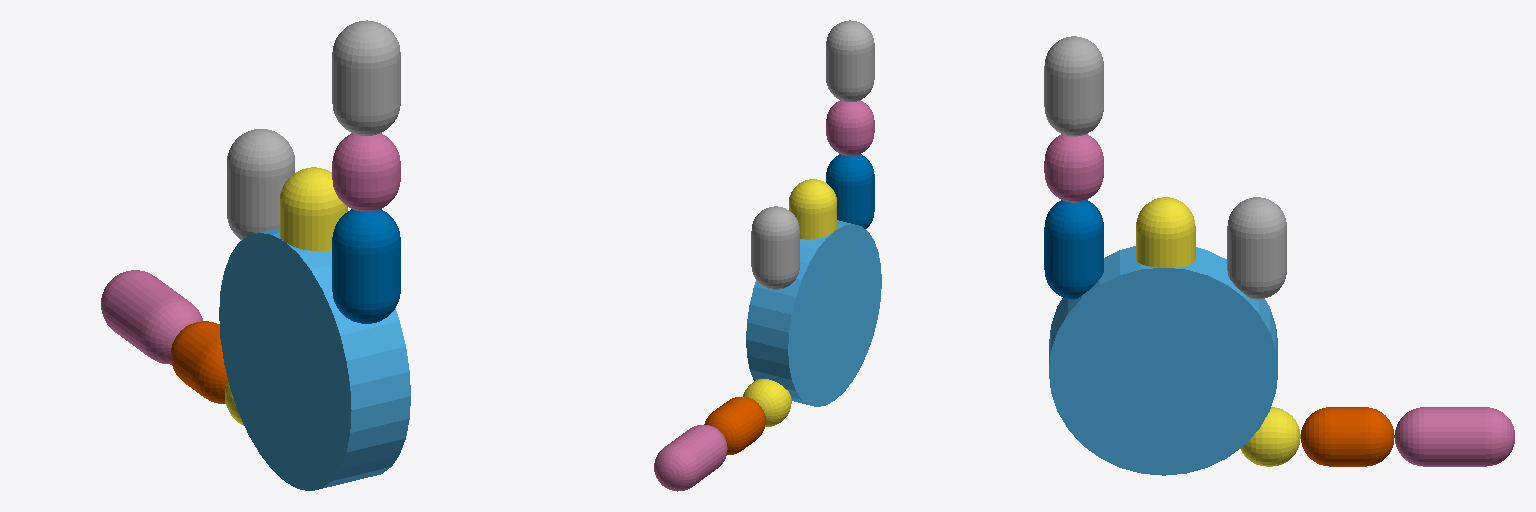
The robot description file, URDF, robot "DexterousHand":
<?xml version="1.0"?>
<robot name="DexterousHand">


    <link name="world"/>
    <joint name="world_to_palm" type="fixed">
        <parent link="world"/>
        <child link="palm"/>
        <origin xyz="0 0 0" rpy="0 0 0"/>
    </joint>
    <link name="palm">
        <inertial>
            <origin xyz="0 0 0.057" rpy="0 0 0"/>
            <mass value="0.30212892864"/>
            <inertia ixx="0.00049080844457568" ixy="0.0" ixz="0.0" iyy="0.00026746366246427523" iyz="0.0" izz="0.00026746366246427523"/>
        </inertial>
        <visual>
            <origin xyz="0 0 0.057" rpy="1.5708 0 1.5708"/>
            <geometry>
                <cylinder radius="0.057" length="0.0296"/>
            </geometry>
            <material name="default"/>
        </visual>
        <collision>
            <origin xyz="0 0 0.057" rpy="1.5708 0 1.5708"/>
            <geometry>
                <cylinder radius="0.057" length="0.0296"/>
            </geometry>
        </collision>
    </link>

    
    <joint name="thumb_joint1" type="revolute">
        <parent link="palm"/>
        <child link="thumb_base"/>
        <origin xyz="0.0029 0.0368 0.0157" rpy="-1.5708 -1.5708 0.0"/>
        <axis xyz="-1 0 0"/>
        <limit lower="-0.349" upper="2.094" effort="1.0" velocity="1.0"/>
    </joint>

    <link name="thumb_base"></link>

    <joint name="thumb_joint2" type="revolute">
        <parent link="thumb_base"/>
        <child link="thumb_proximal"/>
        <origin xyz="0.0 0.0 0.0" rpy="0.0 0.0 0.0"/>
        <axis xyz="0 0 1"/>
        <limit lower="-0.47" upper="2.443" effort="1.0" velocity="1.0"/>
    </joint>

    <link name="thumb_proximal">
        <inertial>
            <origin xyz="0 0 0.01565" rpy="0 0 0"/>
            <mass value="0.021538658803200002"/>
            <inertia ixx="2.9378910096388167e-06" ixy="0.0" ixz="0.0" 
            iyy="2.9378910096388167e-06" iyz="0.0" izz="2.358913912126464e-06"/>
        </inertial>
        <visual>
            <origin xyz="0 0 0.01565" rpy="0 0 0"/>
            <geometry>
                <cylinder radius="0.0148" length="0.0017000000000000001"/>
            </geometry>
            <material name="default"/>
        </visual>
        <visual>
            <origin xyz="0 0 0.0148" rpy="0 0 0"/>
            <geometry>
                <sphere radius="0.0148"/>
            </geometry>
            <material name="default"/>
        </visual>
        <visual>
            <origin xyz="0 0 0.0165" rpy="0 0 0"/>
            <geometry>
                <sphere radius="0.0148"/>
            </geometry>
            <material name="default"/>
        </visual>
        <collision>
            <origin xyz="0 0 0.01565" rpy="0 0 0"/>
            <geometry>
                <cylinder radius="0.0148" length="0.0017000000000000001"/>
            </geometry>
        </collision>
        <collision>
            <origin xyz="0 0 0.0148" rpy="0 0 0"/>
            <geometry>
                <sphere radius="0.0148"/>
            </geometry>
        </collision>
        <collision>
            <origin xyz="0 0 0.0165" rpy="0 0 0"/>
            <geometry>
                <sphere radius="0.0148"/>
            </geometry>
        </collision>
    </link>

    <joint name="thumb_joint3" type="revolute">
        <parent link="thumb_proximal"/>
        <child link="thumb_knuckle"/>
        <origin xyz="0.0 0.0 0.0313" rpy="0.0 0.0 0.0"/>
        <axis xyz="1 0 0"/>
        <limit lower="0.0" upper="0.0" effort="1.0" velocity="1.0"/>
    </joint>

    <link name="thumb_knuckle"></link>

    <joint name="thumb_joint4" type="revolute">
        <parent link="thumb_knuckle"/>
        <child link="thumb_middle"/>
        <origin xyz="0 0 0" rpy="0 0 0"/> 
        <axis xyz="0 1 0"/>
        <limit lower="-1.2" upper="1.9" effort="1.0" velocity="1.0"/>
    </joint>

    <link name="thumb_middle">
        <inertial>
            <origin xyz="0 0 0.0233" rpy="0 0 0"/>
            <mass value="0.032067140582400004"/>
            <inertia ixx="7.5589732685519385e-06" ixy="0.0" ixz="0.0" 
            iyy="7.5589732685519385e-06" iyz="0.0" izz="3.5119932365844485e-06"/>
        </inertial>
        <visual>
            <origin xyz="0 0 0.0233" rpy="0 0 0"/>
            <geometry>
                <cylinder radius="0.0148" length="0.017"/>
            </geometry>
            <material name="default"/>
        </visual>
        <visual>
            <origin xyz="0 0 0.0148" rpy="0 0 0"/>
            <geometry>
                <sphere radius="0.0148"/>
            </geometry>
            <material name="default"/>
        </visual>
        <visual>
            <origin xyz="0 0 0.0318" rpy="0 0 0"/>
            <geometry>
                <sphere radius="0.0148"/>
            </geometry>
            <material name="default"/>
        </visual>
        <collision>
            <origin xyz="0 0 0.0233" rpy="0 0 0"/>
            <geometry>
                <cylinder radius="0.0148" length="0.017"/>
            </geometry>
        </collision>
        <collision>
            <origin xyz="0 0 0.0148" rpy="0 0 0"/>
            <geometry>
                <sphere radius="0.0148"/>
            </geometry>
        </collision>
        <collision>
            <origin xyz="0 0 0.0318" rpy="0 0 0"/>
            <geometry>
                <sphere radius="0.0148"/>
            </geometry>
        </collision>
    </link>

    <joint name="thumb_joint5" type="revolute">
        <parent link="thumb_middle"/>
        <child link="thumb_distal"/>
        <origin xyz="0 0 0.0466" rpy="0 0 0"/> 
        <axis xyz="0 1 0"/>
        <limit lower="-1.34" upper="1.88" effort="1.0" velocity="1.0"/>
    </joint>

    <link name="thumb_distal">
        <inertial>
            <origin xyz="0 0 0.03" rpy="0 0 0"/>
            <mass value="0.04128816384"/>
            <inertia ixx="1.46473890038784e-05" ixy="0.0" ixz="0.0" 
            iyy="1.46473890038784e-05" iyz="0.0" izz="4.521879703756801e-06"/>
        </inertial>
        <visual>
            <origin xyz="0 0 0.03" rpy="0 0 0"/>
            <geometry>
                <cylinder radius="0.0148" length="0.030399999999999996"/>
            </geometry>
            <material name="default"/>
        </visual>
        <visual>
            <origin xyz="0 0 0.0148" rpy="0 0 0"/>
            <geometry>
                <sphere radius="0.0148"/>
            </geometry>
            <material name="default"/>
        </visual>
        <visual>
            <origin xyz="0 0 0.0452" rpy="0 0 0"/>
            <geometry>
                <sphere radius="0.0148"/>
            </geometry>
            <material name="default"/>
        </visual>
        <collision>
            <origin xyz="0 0 0.03" rpy="0 0 0"/>
            <geometry>
                <cylinder radius="0.0148" length="0.030399999999999996"/>
            </geometry>
        </collision>
        <collision>
            <origin xyz="0 0 0.0148" rpy="0 0 0"/>
            <geometry>
                <sphere radius="0.0148"/>
            </geometry>
        </collision>
        <collision>
            <origin xyz="0 0 0.0452" rpy="0 0 0"/>
            <geometry>
                <sphere radius="0.0148"/>
            </geometry>
        </collision>
    </link>

    
    <joint name="index_joint1" type="revolute">
        <parent link="palm"/>
        <child link="index_proximal"/>
        <origin xyz="0.0 0.0465 0.091" rpy="0.0 0.0 0.0"/>
        <axis xyz="0 1 0"/>
        <limit lower="-0.314" upper="2.23" effort="1.0" velocity="1.0"/>
    </joint>

    <link name="index_proximal">
        <inertial>
            <origin xyz="0 0 0.02655" rpy="0 0 0"/>
            <mass value="0.036540024998400006"/>
            <inertia ixx="1.058665009272394e-05" ixy="0.0" ixz="0.0" 
            iyy="1.058665009272394e-05" iyz="0.0" izz="4.001863537824769e-06"/>
        </inertial>
        <visual>
            <origin xyz="0 0 0.02655" rpy="0 0 0"/>
            <geometry>
                <cylinder radius="0.0148" length="0.0235"/>
            </geometry>
            <material name="default"/>
        </visual>
        <visual>
            <origin xyz="0 0 0.0148" rpy="0 0 0"/>
            <geometry>
                <sphere radius="0.0148"/>
            </geometry>
            <material name="default"/>
        </visual>
        <visual>
            <origin xyz="0 0 0.0383" rpy="0 0 0"/>
            <geometry>
                <sphere radius="0.0148"/>
            </geometry>
            <material name="default"/>
        </visual>
        <collision>
            <origin xyz="0 0 0.02655" rpy="0 0 0"/>
            <geometry>
                <cylinder radius="0.0148" length="0.0235"/>
            </geometry>
        </collision>
        <collision>
            <origin xyz="0 0 0.0148" rpy="0 0 0"/>
            <geometry>
                <sphere radius="0.0148"/>
            </geometry>
        </collision>
        <collision>
            <origin xyz="0 0 0.0383" rpy="0 0 0"/>
            <geometry>
                <sphere radius="0.0148"/>
            </geometry>
        </collision>
    </link>

    <joint name="index_joint2" type="revolute">
        <parent link="index_proximal"/>
        <child link="index_dummy"/>
        <origin xyz="0.0 0.0 0.038" rpy="0.0 0.0 0.0"/>
        <axis xyz="0 1 0"/>
        <limit lower="0.0" upper="0.0" effort="1.0" velocity="1.0"/>
    </joint>

    <link name="index_dummy"></link>

    <joint name="index_joint3" type="revolute">
        <parent link="index_dummy"/>
        <child link="index_middle"/>
        <origin xyz="0 0 0.015100000000000002" rpy="0 0 0"/>
        <axis xyz="0 1 0"/>
        <limit lower="0.0" upper="0.0" effort="1.0" velocity="1.0"/>
    </joint>

    <link name="index_middle">
    </link>

    <joint name="index_joint4" type="revolute">
        <parent link="index_middle"/>
        <child link="index_distal"/>
        <origin xyz="0 0 0" rpy="0 0 0"/> 
        <axis xyz="0 1 0"/>
        <limit lower="0.0" upper="0.0" effort="1.0" velocity="1.0"/>
    </joint>

    <link name="index_distal">
    </link>

    
    <joint name="middle_joint1" type="revolute">
        <parent link="palm"/>
        <child link="middle_proximal"/>
        <origin xyz="0.0 0.0011 0.091" rpy="0.0 0.0 0.0"/>
        <axis xyz="0 1 0"/>
        <limit lower="-0.314" upper="2.23" effort="1.0" velocity="1.0"/>
    </joint>

    <link name="middle_proximal">
        <inertial>
            <origin xyz="0 0 0.02655" rpy="0 0 0"/>
            <mass value="0.036540024998400006"/>
            <inertia ixx="1.058665009272394e-05" ixy="0.0" ixz="0.0" 
            iyy="1.058665009272394e-05" iyz="0.0" izz="4.001863537824769e-06"/>
        </inertial>
        <visual>
            <origin xyz="0 0 0.02655" rpy="0 0 0"/>
            <geometry>
                <cylinder radius="0.0148" length="0.0235"/>
            </geometry>
            <material name="default"/>
        </visual>
        <visual>
            <origin xyz="0 0 0.0148" rpy="0 0 0"/>
            <geometry>
                <sphere radius="0.0148"/>
            </geometry>
            <material name="default"/>
        </visual>
        <visual>
            <origin xyz="0 0 0.0383" rpy="0 0 0"/>
            <geometry>
                <sphere radius="0.0148"/>
            </geometry>
            <material name="default"/>
        </visual>
        <collision>
            <origin xyz="0 0 0.02655" rpy="0 0 0"/>
            <geometry>
                <cylinder radius="0.0148" length="0.0235"/>
            </geometry>
        </collision>
        <collision>
            <origin xyz="0 0 0.0148" rpy="0 0 0"/>
            <geometry>
                <sphere radius="0.0148"/>
            </geometry>
        </collision>
        <collision>
            <origin xyz="0 0 0.0383" rpy="0 0 0"/>
            <geometry>
                <sphere radius="0.0148"/>
            </geometry>
        </collision>
    </link>

    <joint name="middle_joint2" type="revolute">
        <parent link="middle_proximal"/>
        <child link="middle_dummy"/>
        <origin xyz="0.0 0.0 0.038" rpy="0.0 0.0 0.0"/>
        <axis xyz="0 1 0"/>
        <limit lower="0.0" upper="0.0" effort="1.0" velocity="1.0"/>
    </joint>

    <link name="middle_dummy"></link>

    <joint name="middle_joint3" type="revolute">
        <parent link="middle_dummy"/>
        <child link="middle_middle"/>
        <origin xyz="0 0 0.015100000000000002" rpy="0 0 0"/>
        <axis xyz="0 1 0"/>
        <limit lower="0.0" upper="0.0" effort="1.0" velocity="1.0"/>
    </joint>

    <link name="middle_middle">
    </link>

    <joint name="middle_joint4" type="revolute">
        <parent link="middle_middle"/>
        <child link="middle_distal"/>
        <origin xyz="0 0 0" rpy="0 0 0"/> 
        <axis xyz="0 1 0"/>
        <limit lower="0.0" upper="0.0" effort="1.0" velocity="1.0"/>
    </joint>

    <link name="middle_distal">
    </link>

    
    <joint name="ring_joint1" type="revolute">
        <parent link="palm"/>
        <child link="ring_proximal"/>
        <origin xyz="0.0 0.0 0.0" rpy="0.0 0.0 0.0"/>
        <axis xyz="1 0 0"/>
        <limit lower="0.0" upper="0.0" effort="1.0" velocity="1.0"/>
    </joint>

    <link name="ring_proximal">
    </link>

    <joint name="ring_joint2" type="revolute">
        <parent link="ring_proximal"/>
        <child link="ring_dummy"/>
        <origin xyz="0.0 0.0 0.0" rpy="0.0 0.0 0.0"/>
        <axis xyz="0 1 0"/>
        <limit lower="0.0" upper="0.0" effort="1.0" velocity="1.0"/>
    </joint>

    <link name="ring_dummy"></link>

    <joint name="ring_joint3" type="revolute">
        <parent link="ring_dummy"/>
        <child link="ring_middle"/>
        <origin xyz="0 0 0" rpy="0 0 0"/>
        <axis xyz="0 1 0"/>
        <limit lower="0.0" upper="0.0" effort="1.0" velocity="1.0"/>
    </joint>

    <link name="ring_middle">
    </link>

    <joint name="ring_joint4" type="revolute">
        <parent link="ring_middle"/>
        <child link="ring_distal"/>
        <origin xyz="0 0 0" rpy="0 0 0"/> 
        <axis xyz="0 1 0"/>
        <limit lower="0.0" upper="0.0" effort="1.0" velocity="1.0"/>
    </joint>

    <link name="ring_distal">
    </link>

    
    <joint name="little_joint0" type="revolute">
        <parent link="palm"/>
        <child link="little_base"/>
        <origin xyz="0.0 0.0 0.0" rpy="0.0 0.0 0.0"/>
        <axis xyz="0 1 0"/>
        <limit lower="0.0" upper="0.0" effort="1.0" velocity="1.0"/>
    </joint>

    <link name="little_base"></link>

    <joint name="little_joint1" type="revolute">
        <parent link="little_base"/>
        <child link="little_proximal"/>
        <origin xyz="0.0 -0.0443 0.091" rpy="-0.0 -0.0 -0.0"/>
        <axis xyz="0 1 0"/>
        <limit lower="-0.314" upper="2.23" effort="1.0" velocity="1.0"/>
    </joint>

    <link name="little_proximal">
        <inertial>
            <origin xyz="0 0 0.02655" rpy="0 0 0"/>
            <mass value="0.036540024998400006"/>
            <inertia ixx="1.058665009272394e-05" ixy="0.0" ixz="0.0" 
            iyy="1.058665009272394e-05" iyz="0.0" izz="4.001863537824769e-06"/>
        </inertial>
        <visual>
            <origin xyz="0 0 0.02655" rpy="0 0 0"/>
            <geometry>
                <cylinder radius="0.0148" length="0.0235"/>
            </geometry>
            <material name="default"/>
        </visual>
        <visual>
            <origin xyz="0 0 0.0148" rpy="0 0 0"/>
            <geometry>
                <sphere radius="0.0148"/>
            </geometry>
            <material name="default"/>
        </visual>
        <visual>
            <origin xyz="0 0 0.0383" rpy="0 0 0"/>
            <geometry>
                <sphere radius="0.0148"/>
            </geometry>
            <material name="default"/>
        </visual>
        <collision>
            <origin xyz="0 0 0.02655" rpy="0 0 0"/>
            <geometry>
                <cylinder radius="0.0148" length="0.0235"/>
            </geometry>
        </collision>
        <collision>
            <origin xyz="0 0 0.0148" rpy="0 0 0"/>
            <geometry>
                <sphere radius="0.0148"/>
            </geometry>
        </collision>
        <collision>
            <origin xyz="0 0 0.0383" rpy="0 0 0"/>
            <geometry>
                <sphere radius="0.0148"/>
            </geometry>
        </collision>
    </link>

    <joint name="little_joint2" type="revolute">
        <parent link="little_proximal"/>
        <child link="little_dummy"/>
        <origin xyz="0.0 0.0 0.038" rpy="0.0 0.0 0.0"/>
        <axis xyz="1 0 0"/>
        <limit lower="-1.047" upper="1.047" effort="1.0" velocity="1.0"/>
    </joint>

    <link name="little_dummy"></link>

    <joint name="little_joint3" type="revolute">
        <parent link="little_dummy"/>
        <child link="little_middle"/>
        <origin xyz="0 0 0.015100000000000002" rpy="0 0 0"/>
        <axis xyz="0 1 0"/>
        <limit lower="-0.506" upper="1.885" effort="1.0" velocity="1.0"/>
    </joint>

    <link name="little_middle">
        <inertial>
            <origin xyz="0 0 0.01805" rpy="0 0 0"/>
            <mass value="0.0248417119104"/>
            <inertia ixx="4.058162759109537e-06" ixy="0.0" ixz="0.0" 
            iyy="4.058162759109537e-06" iyz="0.0" izz="2.7206642884270085e-06"/>
        </inertial>
        <visual>
            <origin xyz="0 0 0.01805" rpy="0 0 0"/>
            <geometry>
                <cylinder radius="0.0148" length="0.006499999999999999"/>
            </geometry>
            <material name="default"/>
        </visual>
        <visual>
            <origin xyz="0 0 0.0148" rpy="0 0 0"/>
            <geometry>
                <sphere radius="0.0148"/>
            </geometry>
            <material name="default"/>
        </visual>
        <visual>
            <origin xyz="0 0 0.0213" rpy="0 0 0"/>
            <geometry>
                <sphere radius="0.0148"/>
            </geometry>
            <material name="default"/>
        </visual>
        <collision>
            <origin xyz="0 0 0.01805" rpy="0 0 0"/>
            <geometry>
                <cylinder radius="0.0148" length="0.006499999999999999"/>
            </geometry>
        </collision>
        <collision>
            <origin xyz="0 0 0.0148" rpy="0 0 0"/>
            <geometry>
                <sphere radius="0.0148"/>
            </geometry>
        </collision>
        <collision>
            <origin xyz="0 0 0.0213" rpy="0 0 0"/>
            <geometry>
                <sphere radius="0.0148"/>
            </geometry>
        </collision>
    </link>

    <joint name="little_joint4" type="revolute">
        <parent link="little_middle"/>
        <child link="little_distal"/>
        <origin xyz="0 0 0.0361" rpy="0 0 0"/>
        <axis xyz="0 1 0"/>
        <limit lower="-0.366" upper="2.042" effort="1.0" velocity="1.0"/>
    </joint>

    <link name="little_distal">
        <inertial>
            <origin xyz="0 0 0.026" rpy="0 0 0"/>
            <mass value="0.035783075328"/>
            <inertia ixx="1.002260084553728e-05" ixy="0.0" ixz="0.0" 
            iyy="1.002260084553728e-05" iyz="0.0" izz="3.91896240992256e-06"/>
        </inertial>
        <visual>
            <origin xyz="0 0 0.026" rpy="0 0 0"/>
            <geometry>
                <cylinder radius="0.0148" length="0.022399999999999996"/>
            </geometry>
            <material name="default"/>
        </visual>
        <visual>
            <origin xyz="0 0 0.0148" rpy="0 0 0"/>
            <geometry>
                <sphere radius="0.0148"/>
            </geometry>
            <material name="default"/>
        </visual>
        <visual>
            <origin xyz="0 0 0.0372" rpy="0 0 0"/>
            <geometry>
                <sphere radius="0.0148"/>
            </geometry>
            <material name="default"/>
        </visual>
        <collision>
            <origin xyz="0 0 0.026" rpy="0 0 0"/>
            <geometry>
                <cylinder radius="0.0148" length="0.022399999999999996"/>
            </geometry>
        </collision>
        <collision>
            <origin xyz="0 0 0.0148" rpy="0 0 0"/>
            <geometry>
                <sphere radius="0.0148"/>
            </geometry>
        </collision>
        <collision>
            <origin xyz="0 0 0.0372" rpy="0 0 0"/>
            <geometry>
                <sphere radius="0.0148"/>
            </geometry>
        </collision>
    </link>

</robot>

--- Render facts (derived) ---
3 views of the same robot in one strip: view 1: azimuth 30°, elevation 25°; view 2: azimuth 150°, elevation 25°; view 3: azimuth 270°, elevation 25° (orthographic).
Model DexterousHand with 24 links and 23 joints (22 revolute, 1 fixed), rooted at world, posed all joints at 0.
Visible links, largest first — view 1: palm, little_proximal, little_distal, index_proximal, thumb_distal, little_middle, middle_proximal, thumb_middle; view 2: palm, index_proximal, little_distal, thumb_distal, little_proximal, middle_proximal, little_middle, thumb_middle, thumb_proximal; view 3: palm, thumb_distal, index_proximal, little_distal, little_proximal, thumb_middle, middle_proximal, little_middle, thumb_proximal.
Link boxes in pixels (x1,y1,x2,y2): palm: (219, 228, 410, 490); little_proximal: (332, 209, 400, 323); little_distal: (332, 20, 400, 135); index_proximal: (227, 129, 294, 240); thumb_distal: (101, 270, 202, 364); little_middle: (332, 133, 400, 211); middle_proximal: (280, 167, 347, 251); thumb_middle: (171, 321, 227, 403); palm: (746, 220, 881, 406); index_proximal: (751, 206, 799, 289); little_distal: (826, 20, 874, 101); thumb_distal: (654, 425, 727, 491); little_proximal: (826, 154, 874, 228); middle_proximal: (789, 179, 836, 239); little_middle: (826, 100, 874, 155); thumb_middle: (704, 397, 765, 454); thumb_proximal: (743, 379, 791, 426); palm: (1049, 246, 1277, 475); thumb_distal: (1395, 407, 1514, 466); index_proximal: (1227, 197, 1286, 299); little_distal: (1044, 36, 1103, 136); little_proximal: (1044, 200, 1103, 299); thumb_middle: (1301, 407, 1394, 466); middle_proximal: (1136, 197, 1195, 267); little_middle: (1044, 134, 1103, 202); thumb_proximal: (1240, 407, 1300, 466).
Bounding box of the posed robot: 0.0325 × 0.2338 × 0.2322 m (x, y, z).
Geometry: primitives only (box / cylinder / sphere), no mesh files.
